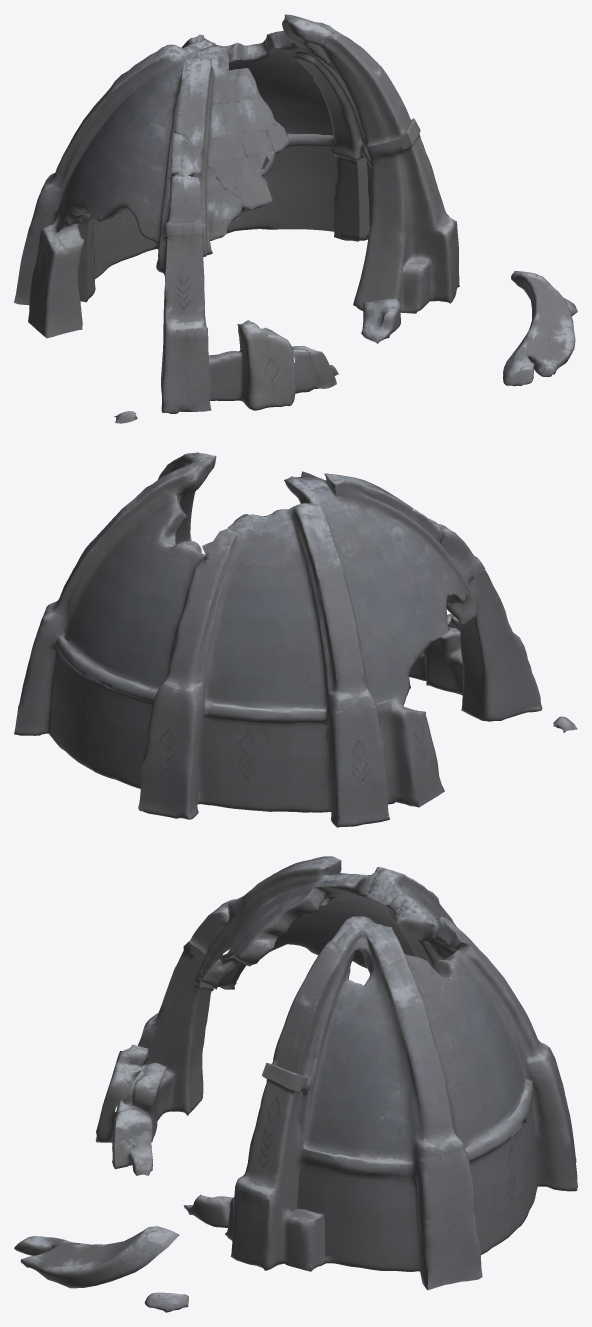
File: arco_ruina_piedra.glb
The picture shows the model from 3 angles, top to bottom: view 1: azimuth 30°, elevation 25°; view 2: azimuth 150°, elevation 25°; view 3: azimuth 270°, elevation 25°; orthographic projection. The views are drawn at different scales.
Parts seen in each view (by area): view 1: tripo_node_dedd85cb; view 2: tripo_node_dedd85cb; view 3: tripo_node_dedd85cb.
Part boxes in pixels (x1,y1,x2,y2): tripo_node_dedd85cb: (14, 14, 577, 423); tripo_node_dedd85cb: (14, 452, 577, 827); tripo_node_dedd85cb: (14, 856, 577, 1312).
Size of the model in its own units: 99.41 by 55.22 by 95.84.
1 material, 1 textured.
